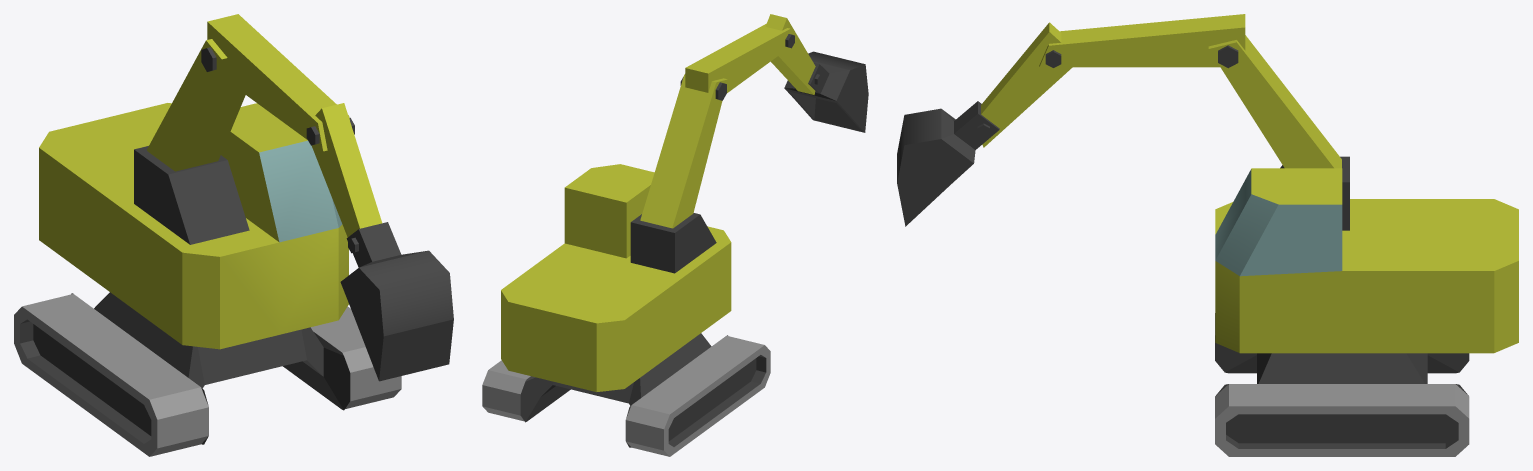
The model's file is crane01.fbx.
3 renders of one model, left to right at view 1: azimuth 30°, elevation 25°; view 2: azimuth 150°, elevation 25°; view 3: azimuth 270°, elevation 25°, orthographic. The views are drawn at different scales.
Visible parts, largest first — view 1: mainbody, rotationaxis, grab, arm02, arm01, arm03; view 2: mainbody, rotationaxis, arm01, grab, arm02, arm03; view 3: mainbody, rotationaxis, arm02, grab, arm01, arm03.
Boxes of the visible parts, left/top/right/bottom form: mainbody: left=39, top=103, right=348, bottom=349; rotationaxis: left=14, top=292, right=401, bottom=456; grab: left=340, top=222, right=453, bottom=381; arm02: left=201, top=14, right=349, bottom=151; arm01: left=147, top=39, right=245, bottom=171; arm03: left=306, top=103, right=382, bottom=237; mainbody: left=501, top=164, right=731, bottom=391; rotationaxis: left=482, top=333, right=770, bottom=456; arm01: left=640, top=74, right=727, bottom=228; grab: left=784, top=51, right=868, bottom=132; arm02: left=680, top=23, right=791, bottom=100; arm03: left=765, top=14, right=815, bottom=94; mainbody: left=1215, top=156, right=1518, bottom=353; rotationaxis: left=1215, top=313, right=1469, bottom=456; arm02: left=1039, top=14, right=1245, bottom=68; grab: left=897, top=101, right=999, bottom=226; arm01: left=1208, top=35, right=1341, bottom=168; arm03: left=981, top=22, right=1072, bottom=147.
Size of the model in its own units: 1.47 by 2.37 by 3.64.
